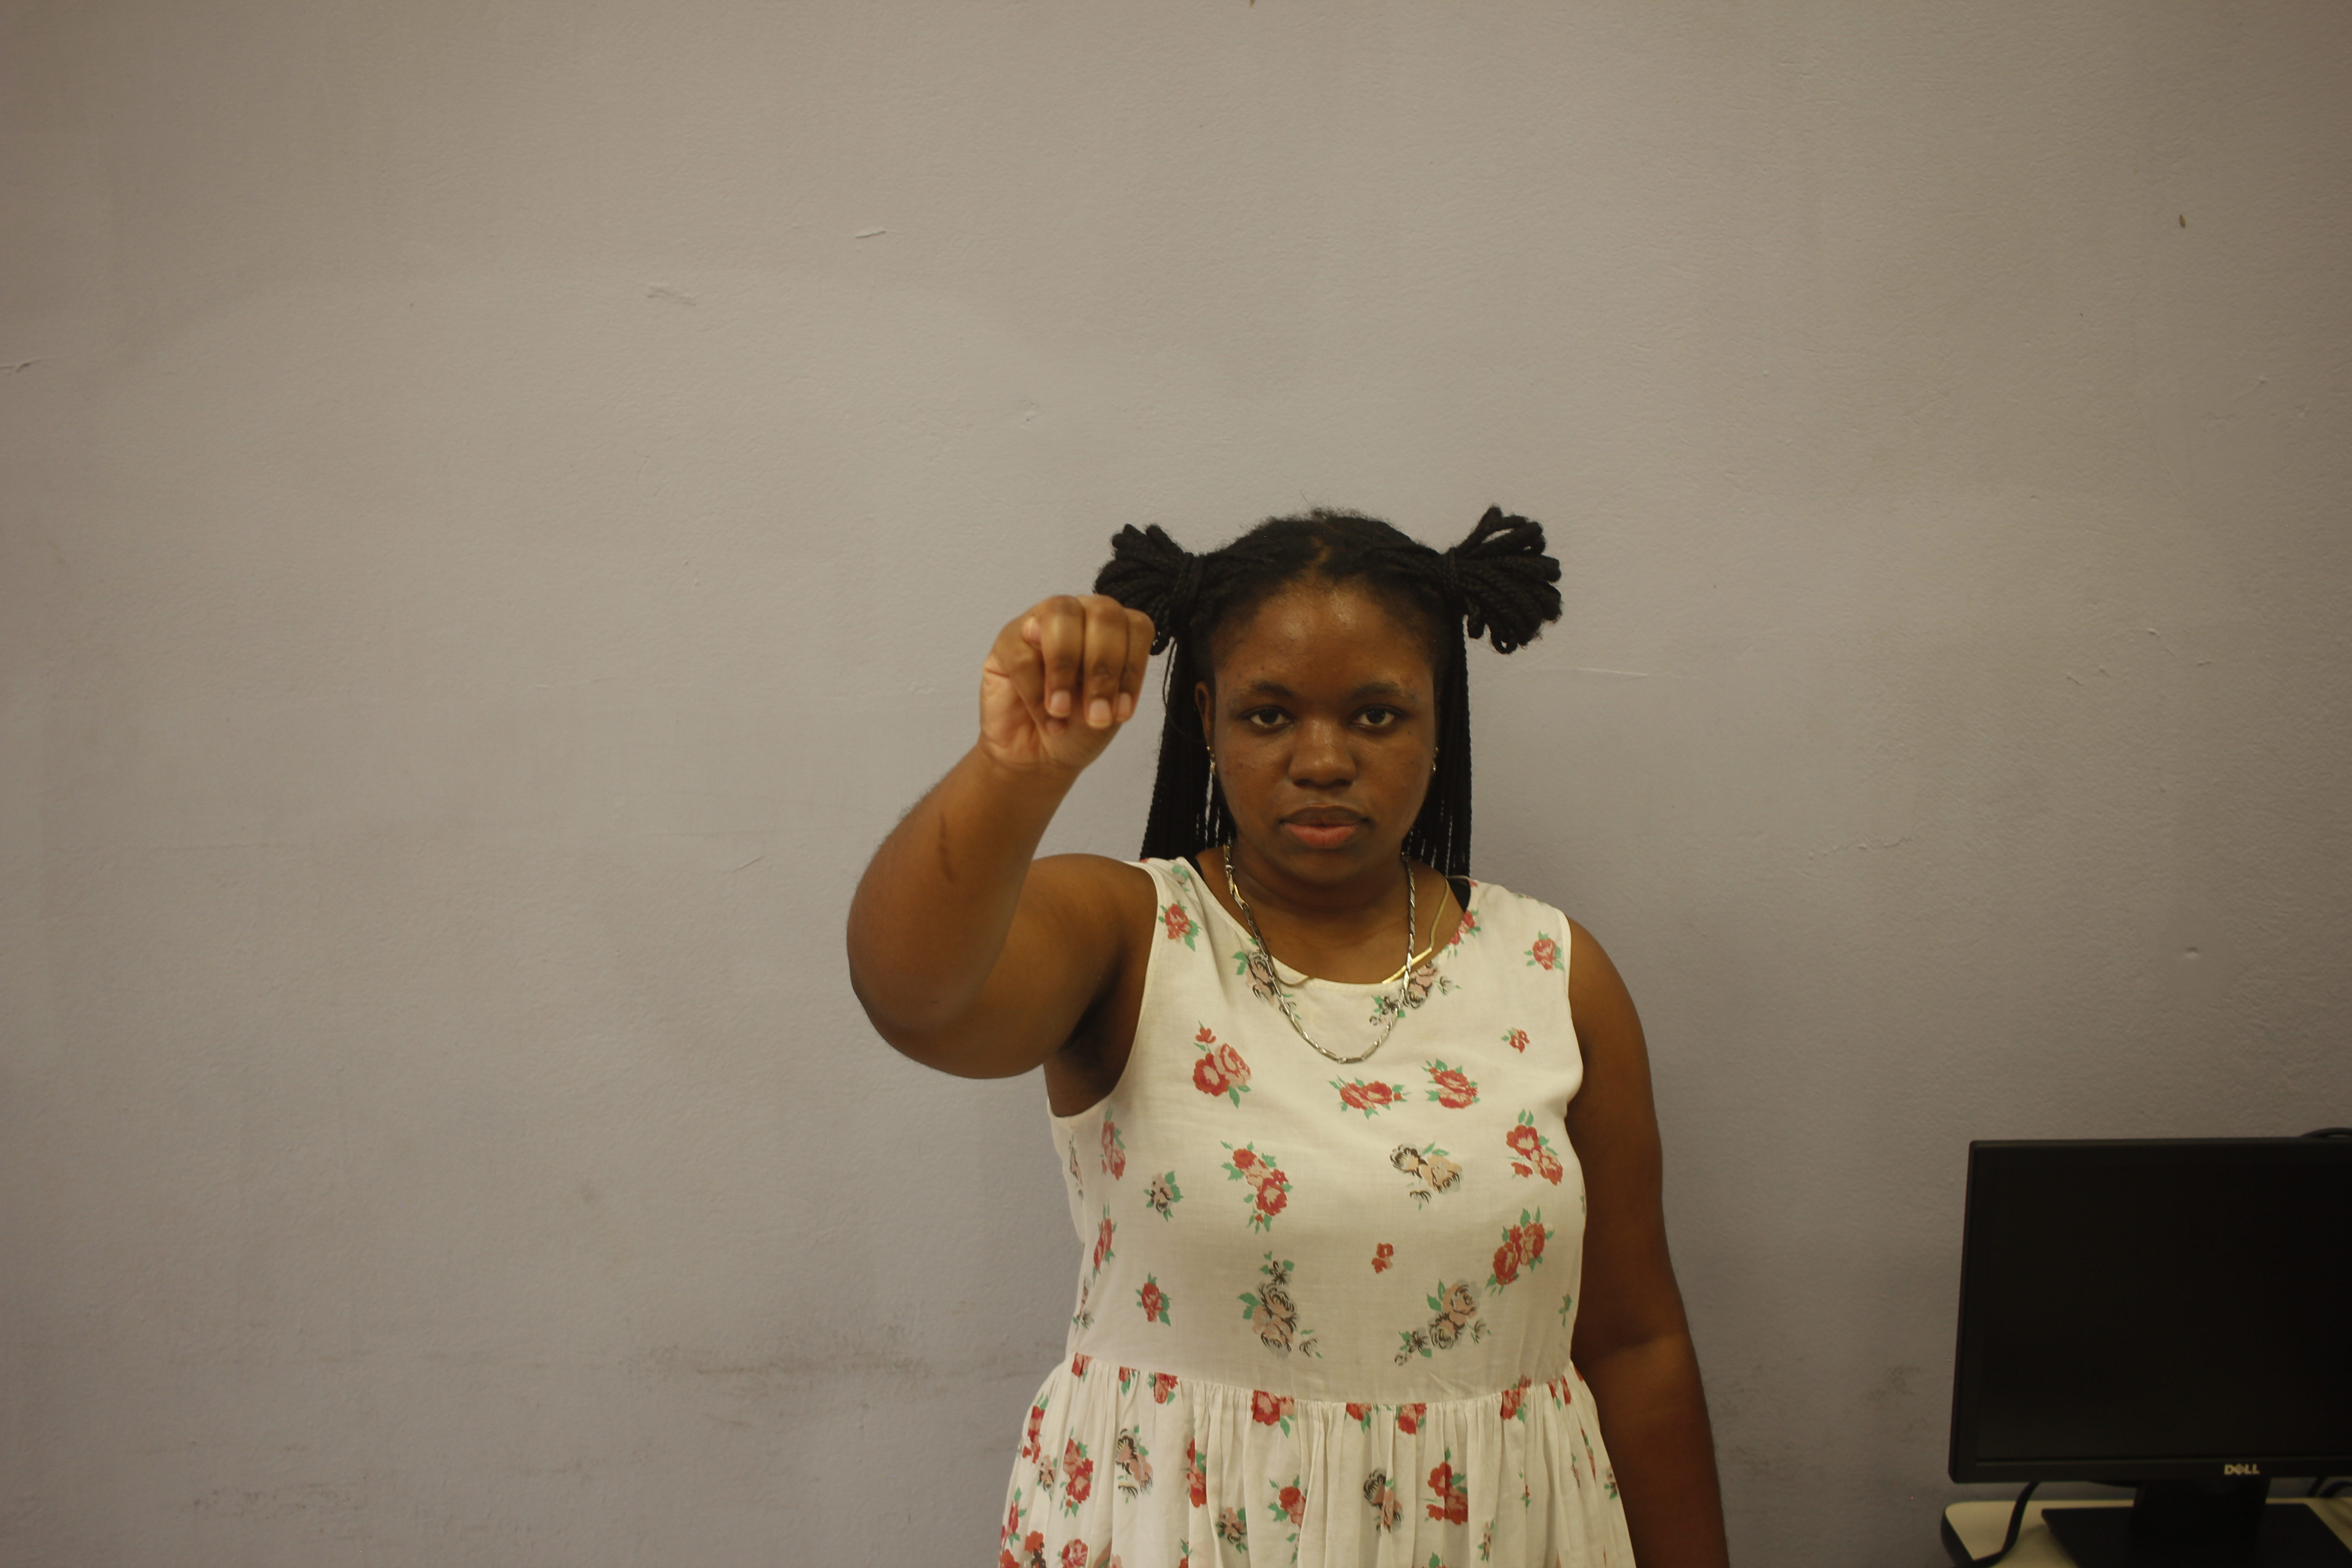M: (966, 571, 1164, 768)
